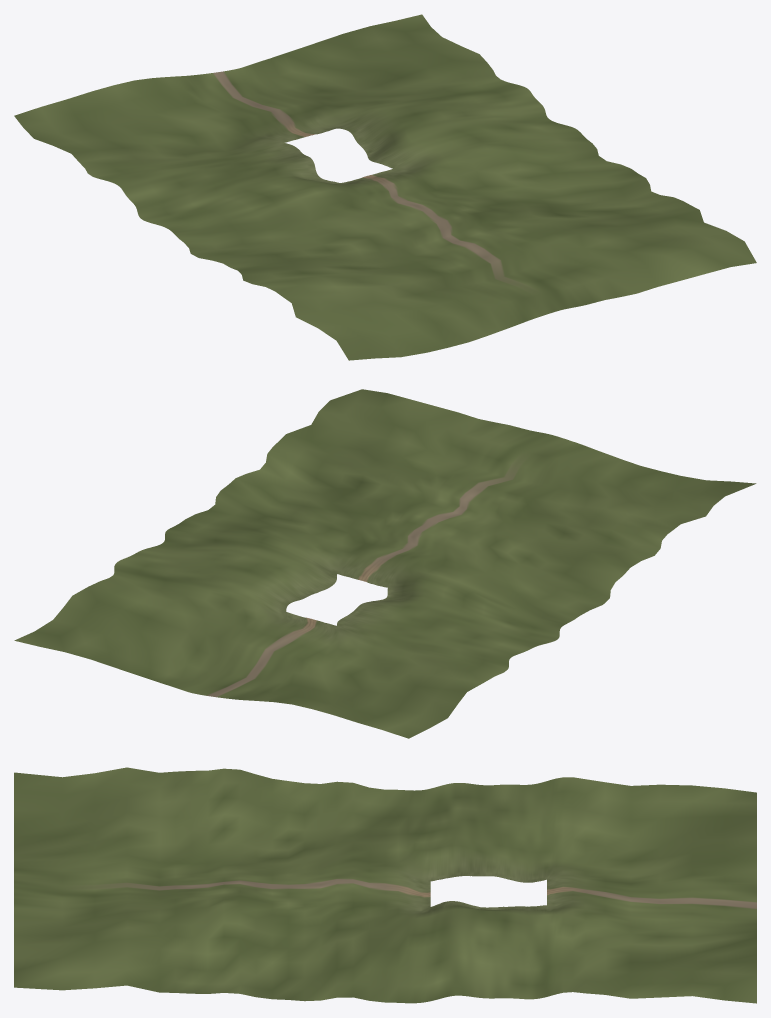
Rendered from hinterland.glb.
3 views of the same model, one above another, from view 1: azimuth 30°, elevation 25°; view 2: azimuth 150°, elevation 25°; view 3: azimuth 270°, elevation 25° (orthographic). The views are drawn at different scales.
Parts seen in each view (by area): view 1: CountryFarNorth, CountryFarSouth, CountryFarEast, CountryFarWest; view 2: CountryFarNorth, CountryFarSouth, CountryFarWest, CountryFarEast; view 3: CountryFarNorth, CountryFarSouth, CountryFarWest, CountryFarEast.
Part boxes in pixels (left/top/right/bottom): CountryFarNorth: left=163, top=126, right=756, bottom=360; CountryFarSouth: left=14, top=14, right=514, bottom=180; CountryFarEast: left=337, top=84, right=569, bottom=168; CountryFarWest: left=107, top=143, right=340, bottom=226; CountryFarNorth: left=165, top=389, right=756, bottom=629; CountryFarSouth: left=14, top=569, right=508, bottom=738; CountryFarWest: left=337, top=585, right=559, bottom=662; CountryFarEast: left=114, top=533, right=337, bottom=611; CountryFarNorth: left=14, top=767, right=430, bottom=1003; CountryFarSouth: left=547, top=777, right=756, bottom=1003; CountryFarWest: left=430, top=781, right=546, bottom=882; CountryFarEast: left=430, top=901, right=546, bottom=1000.
Bounding box in the file's own units: 161 × 10.92 × 230.
